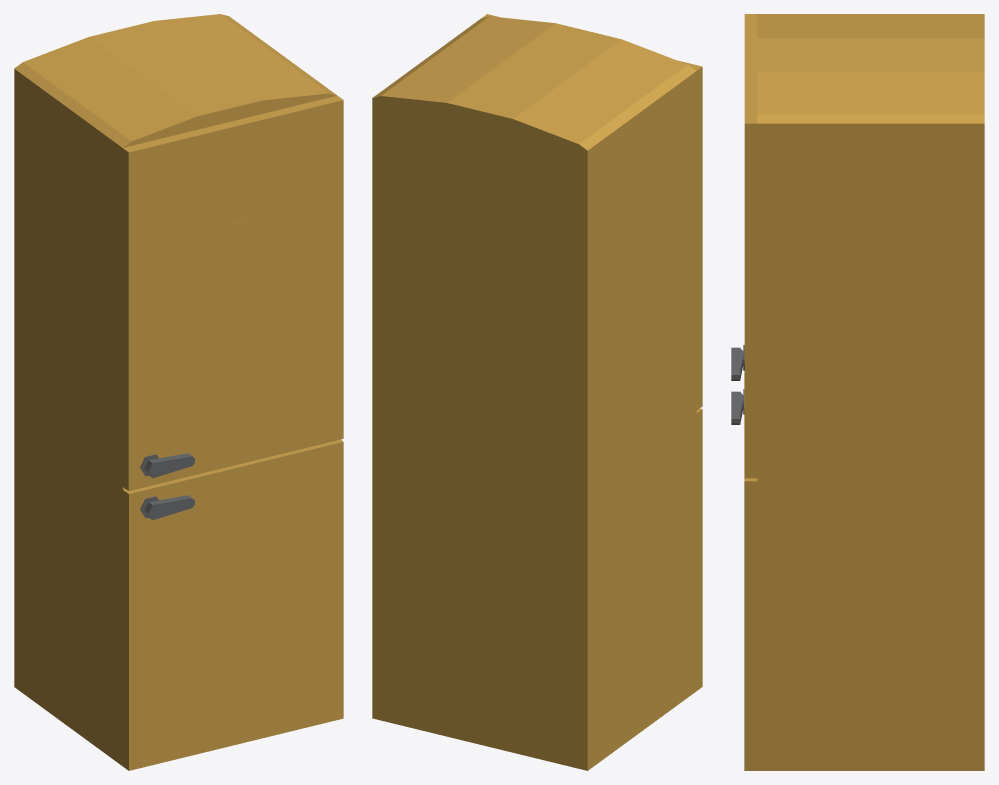
Rendered from oldrefrigerator_01_D.gltf.
3 renders of one model, left to right at view 1: azimuth 30°, elevation 25°; view 2: azimuth 150°, elevation 25°; view 3: azimuth 270°, elevation 25°, orthographic. The views are drawn at different scales.
Visible parts, largest first — view 1: oldrefrigerator_01_D, Dooroldrefrigeratortop_01_D, Dooroldrefrigerator top_01_D; view 2: oldrefrigerator_01_D, Dooroldrefrigeratortop_01_D, Dooroldrefrigerator top_01_D; view 3: oldrefrigerator_01_D, Dooroldrefrigeratortop_01_D, Dooroldrefrigerator top_01_D.
Part boxes in pixels (box(x1,y1,x2,y2)): oldrefrigerator_01_D: box(14, 14, 336, 765); Dooroldrefrigeratortop_01_D: box(122, 95, 343, 490); Dooroldrefrigerator top_01_D: box(122, 439, 343, 770); oldrefrigerator_01_D: box(372, 16, 696, 770); Dooroldrefrigeratortop_01_D: box(481, 14, 702, 410); Dooroldrefrigerator top_01_D: box(696, 408, 702, 690); oldrefrigerator_01_D: box(757, 14, 984, 770); Dooroldrefrigeratortop_01_D: box(731, 14, 757, 478); Dooroldrefrigerator top_01_D: box(731, 372, 757, 770).
Size of the model in its own units: 0.8 by 2.25 by 0.7804.
1 material, 1 textured.
